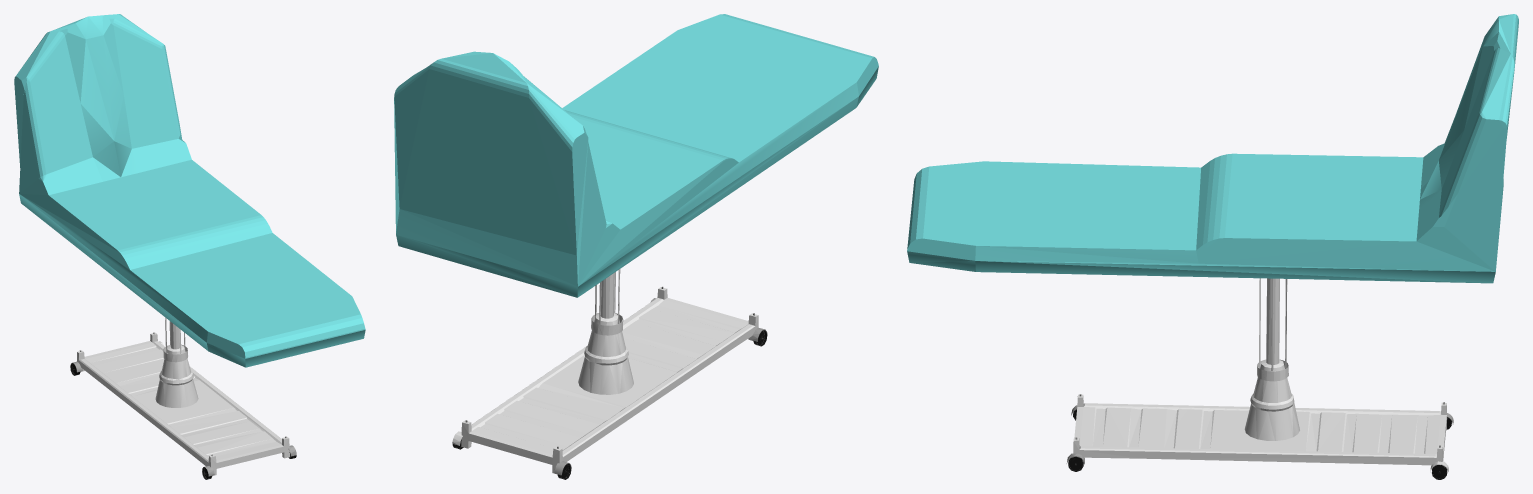
The model's file is medical chair 1.fbx.
3 views of the same model, side by side, from view 1: azimuth 30°, elevation 25°; view 2: azimuth 150°, elevation 25°; view 3: azimuth 270°, elevation 25° (orthographic). The views are drawn at different scales.
Visible parts, largest first — view 1: seat.001, stand, Medical Equipment OBJ.013; view 2: seat.001, stand, Medical Equipment OBJ.013; view 3: seat.001, stand, Medical Equipment OBJ.013.
Boxes of the visible parts, x1,y1,x2,y2 form: seat.001: (14, 14, 365, 367); stand: (77, 317, 289, 475); Medical Equipment OBJ.013: (70, 332, 296, 479); seat.001: (394, 14, 878, 297); stand: (452, 269, 758, 474); Medical Equipment OBJ.013: (452, 286, 767, 479); seat.001: (907, 14, 1518, 283); stand: (1073, 278, 1448, 472); Medical Equipment OBJ.013: (1066, 394, 1453, 479).
Bounding box in the file's own units: 7257 × 14755 × 18988.
Materials: 3 (1 with a texture image).
